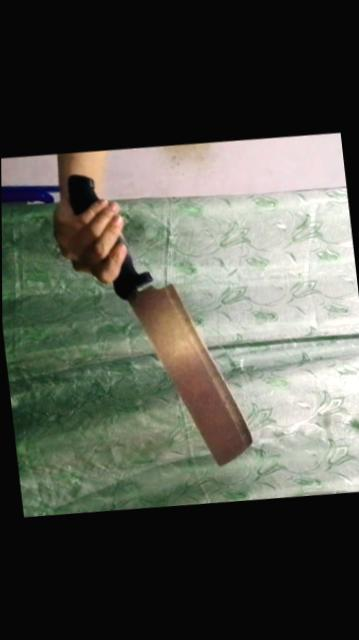long knife: (51, 148, 270, 494)
